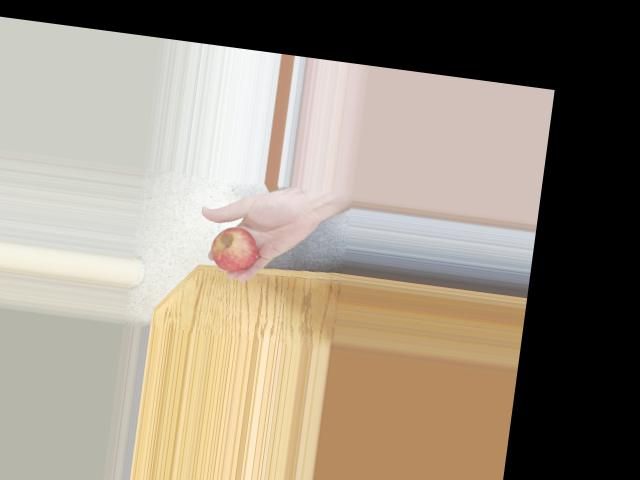apple: (205, 223, 269, 277)
